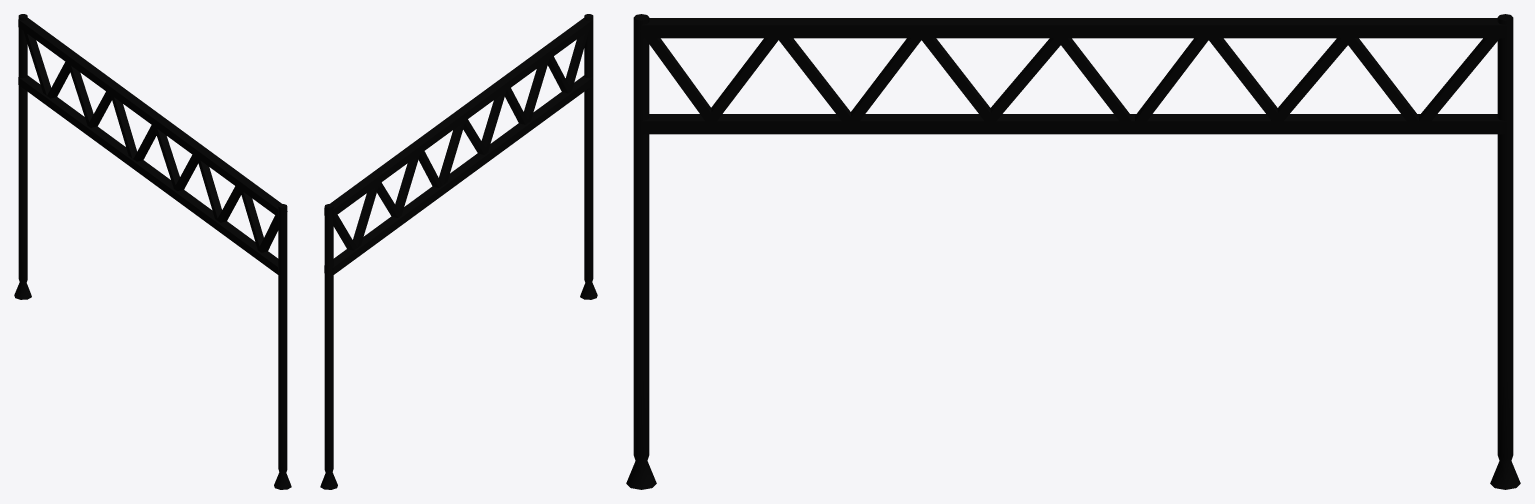
The model's file is overhead sign1.FBX.
3 renders of one model, left to right at view 1: azimuth 30°, elevation 25°; view 2: azimuth 150°, elevation 25°; view 3: azimuth 270°, elevation 25°, orthographic. The views are drawn at different scales.
Parts seen in each view (by area): view 1: Cylinder003; view 2: Cylinder003; view 3: Cylinder003.
Part boxes in pixels (x1=…): Cylinder003: x1=14, y1=14, x2=291, y2=489; Cylinder003: x1=320, y1=14, x2=597, y2=489; Cylinder003: x1=626, y1=14, x2=1520, y2=489.
Size of the model in its own units: 3.55 by 59.49 by 103.
